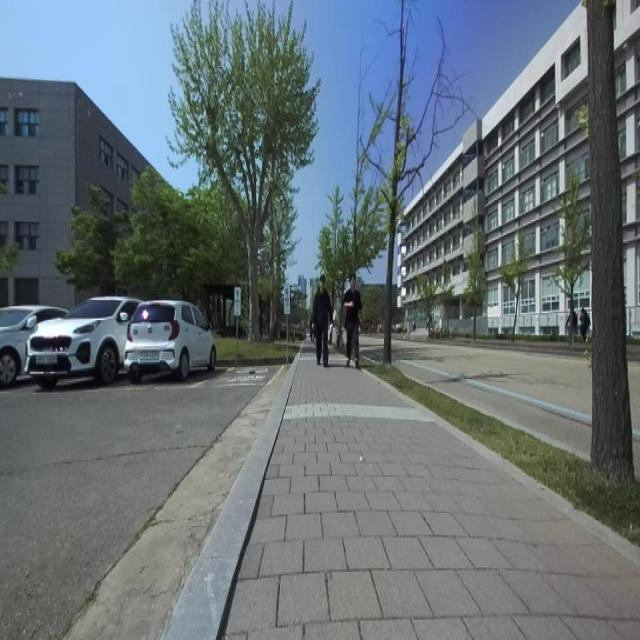sidewalk: (225, 344, 640, 639), (163, 356, 299, 640)
